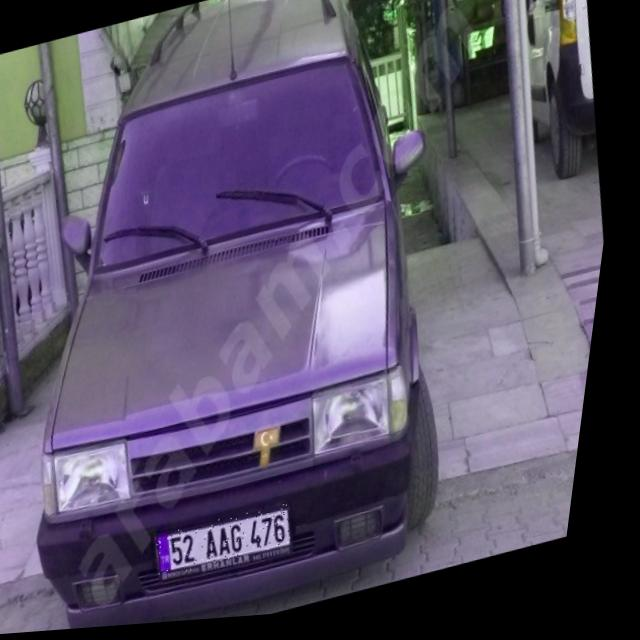license_plate: (165, 507, 310, 583)
